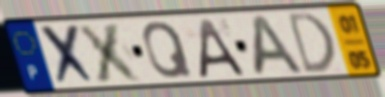A: (251, 13, 308, 79), (197, 16, 248, 80)
D: (285, 9, 339, 77)
Q: (140, 19, 196, 81)
X: (74, 20, 147, 85), (37, 22, 100, 89)
